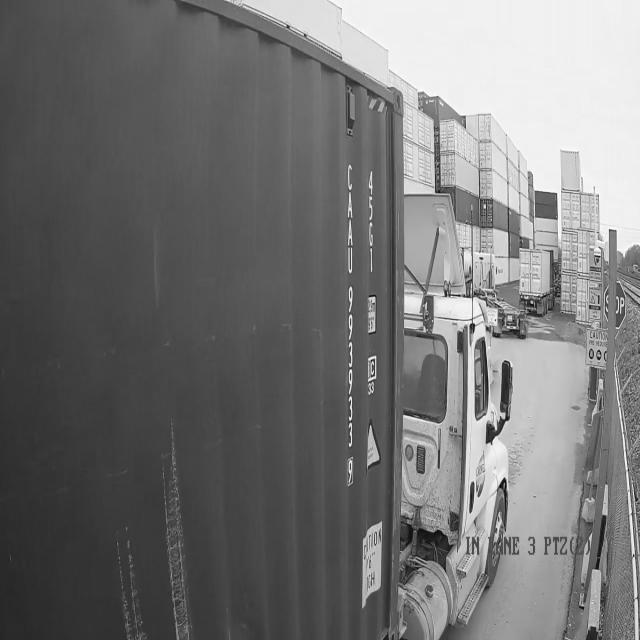container_side_no: (342, 150, 359, 458)
truck_with_container: (0, 0, 513, 639)
